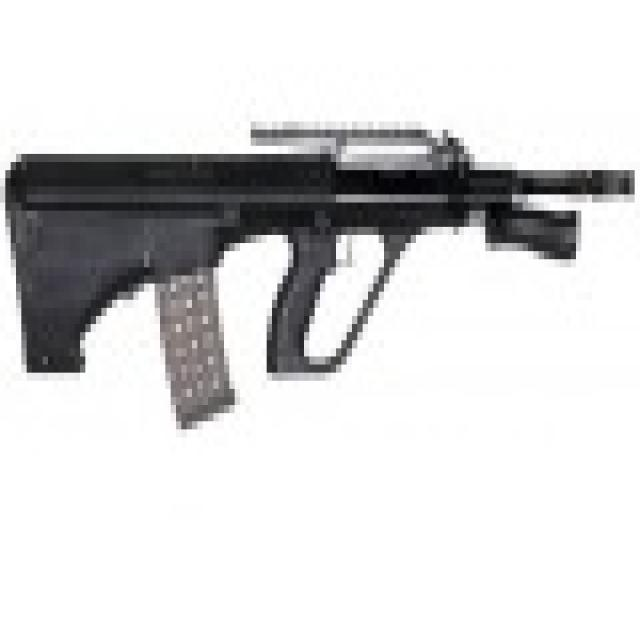Gun: (31, 77, 634, 435)
